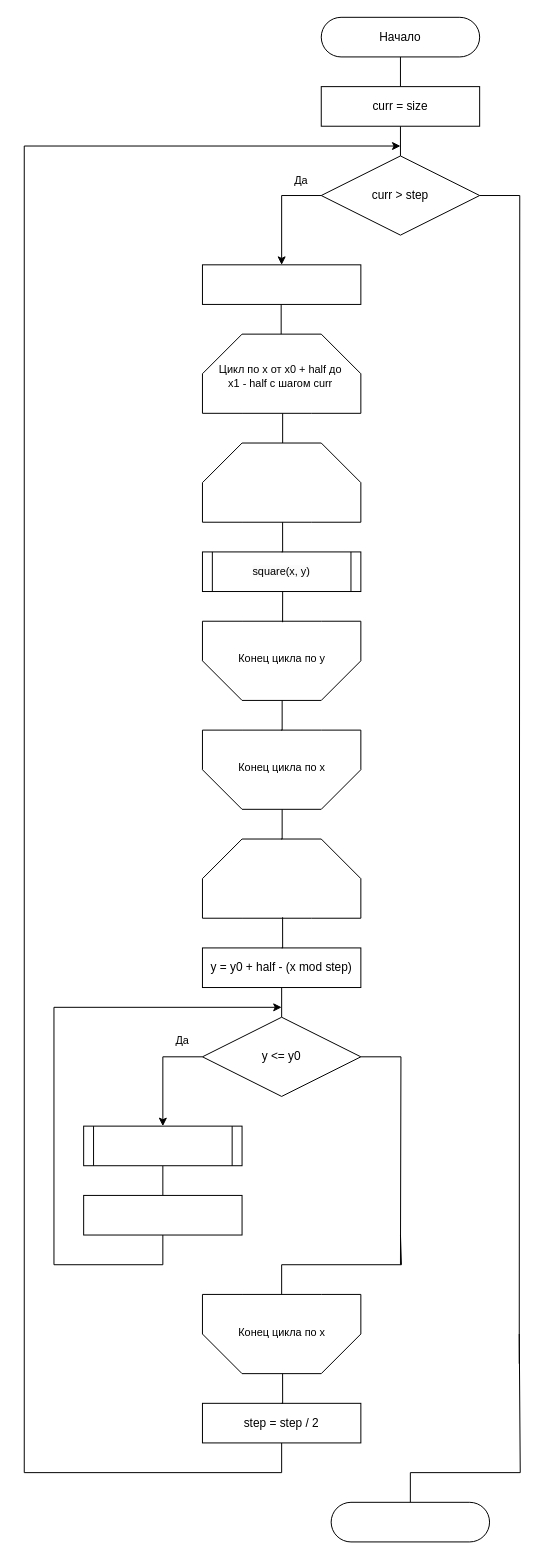
This 539x1559 diagram has some shape labels left out. The shapes that lost their labels are listed below. From the top down, each one's box as (x1, y1, x2, y2) in pixels, then its label:
(201, 264, 361, 304): half = step / 2
(201, 442, 361, 601): Цикл по y от y0 + half до y1 - half с шагом curr
(201, 838, 361, 997): Цикл по x от x0 до x1 с шагом half
(83, 1125, 242, 1166): diamond(x, y)
(83, 1194, 242, 1235): y = y + step
(330, 1501, 490, 1542): Конец
